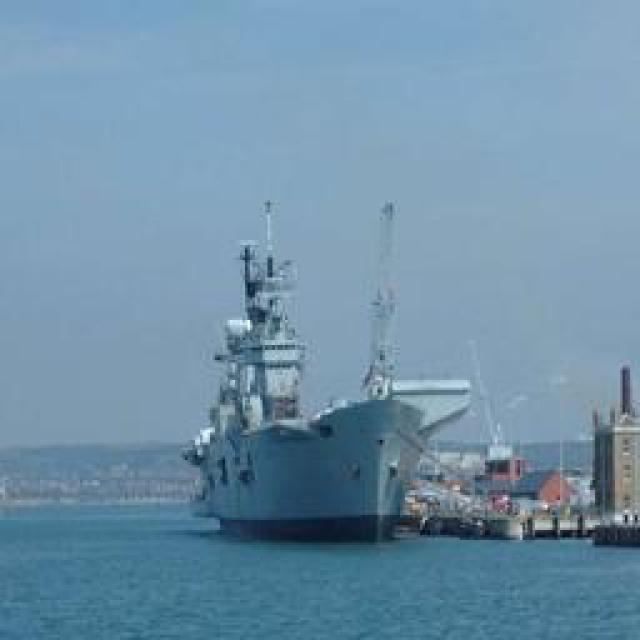Ship: (189, 194, 552, 537)
